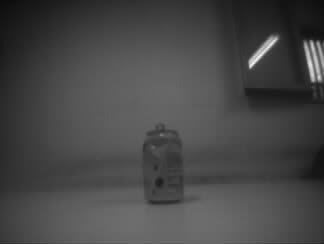Tin can: (141, 122, 186, 205)
